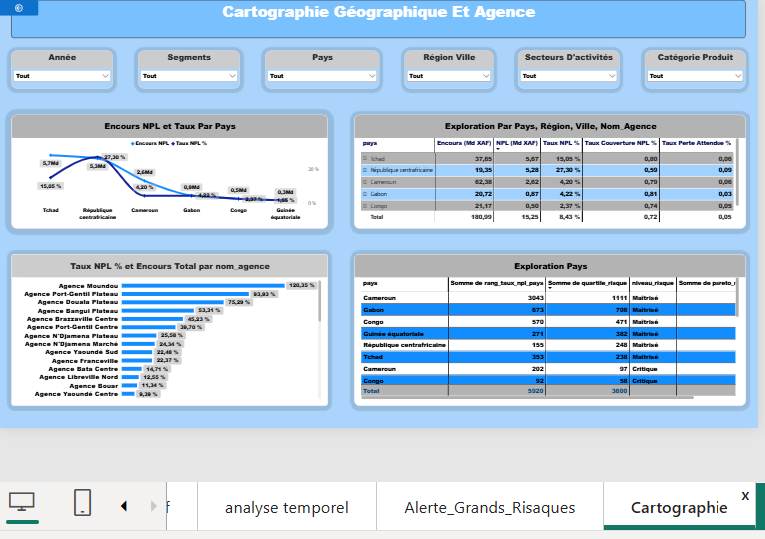

What the dashboard file says about the page in this screenshot:
{"tool":"powerbi","page":{"name":"Cartographie","canvas":[1920,1080],"ordinal":3},"visuals":[{"type":"textbox","box":[32,0,1856,96],"z":0},{"type":"slicer","title":"Année ","fields":{"Values":["public dim_date.date_complet.Variation.Hiérarchie de dates.Année"]},"box":[32,128,256,96],"z":1000},{"type":"slicer","title":"Pays ","fields":{"Values":["public dim_agences.pays"]},"box":[672,128,288,96],"z":2000},{"type":"slicer","title":"Catégorie Produit ","fields":{"Values":["public dim_produits.categorie_produit"]},"box":[1632,128,256,96],"z":3000},{"type":"slicer","title":"Secteurs D''activités ","fields":{"Values":["public dim_clients.secteur_activite"]},"box":[1312,128,256,96],"z":4000},{"type":"actionButton","box":[0,0,100,40],"z":5000},{"type":"slicer","title":" Région Ville ","fields":{"Values":["public dim_agences.pays Hiérarchie.region","public dim_agences.pays Hiérarchie.ville"]},"box":[1024,128,224,96],"z":14000},{"type":"slicer","title":"Segments","fields":{"Values":["public dim_clients.segment"]},"box":[352,128,256,96],"z":16000},{"type":"lineChart","title":"Encours NPL et Taux Par Pays ","fields":{"Category":["public dim_agences.pays"],"Y":["Mesures.Encours NPL"],"Y2":["Etat_Porte_feuille.Taux NPL %"]},"box":[32,288,800,288],"z":16001},{"type":"pivotTable","title":"Exploration Par Pays, Région, Ville, Nom_Agence ","fields":{"Rows":["public dim_agences.pays","public dim_agences.region","public dim_agences.ville","public dim_agences.nom_agence"],"Values":["Etat_Porte_feuille.Encours (Md XAF)","Etat_Porte_feuille.NPL (Md XAF)","Etat_Porte_feuille.Taux NPL %","Etat_Porte_feuille.Taux Couverture NPL %","Etat_Porte_feuille.Taux Perte Attendue %"]},"box":[896,288,992,288],"z":16002},{"type":"barChart","fields":{"Category":["public dim_agences.nom_agence"],"Y":["Etat_Porte_feuille.Taux NPL %"]},"box":[32,640,800,384],"z":16003},{"type":"tableEx","title":"Exploration Pays","fields":{"Values":["public vw_classement_agences.pays","Sum(public vw_classement_agences.rang_taux_npl_pays)","Sum(public vw_classement_agences.quartile_risque)","public vw_classement_agences.niveau_risque","Sum(public vw_classement_agences.pareto_npl_cumule_pct)"]},"box":[896,640,992,384],"z":16004}]}

Visuals, with their boxes on the page's 1920x1080 design canvas (x1, y1, x2, y2). These are canvas units, not pixel positions in the 765x539 screenshot, which may show the page scaled, cropped or inside an application window:
textbox: rect(32, 0, 1888, 96)
"Année " slicer: rect(32, 128, 288, 224)
"Pays " slicer: rect(672, 128, 960, 224)
"Catégorie Produit " slicer: rect(1632, 128, 1888, 224)
"Secteurs D''activités " slicer: rect(1312, 128, 1568, 224)
actionButton: rect(0, 0, 100, 40)
" Région Ville " slicer: rect(1024, 128, 1248, 224)
"Segments" slicer: rect(352, 128, 608, 224)
"Encours NPL et Taux Par Pays " lineChart: rect(32, 288, 832, 576)
"Exploration Par Pays, Région, Ville, Nom_Agence " pivotTable: rect(896, 288, 1888, 576)
barChart - public dim_agences.nom_agence x Etat_Porte_feuille.Taux NPL %: rect(32, 640, 832, 1024)
"Exploration Pays" tableEx: rect(896, 640, 1888, 1024)
